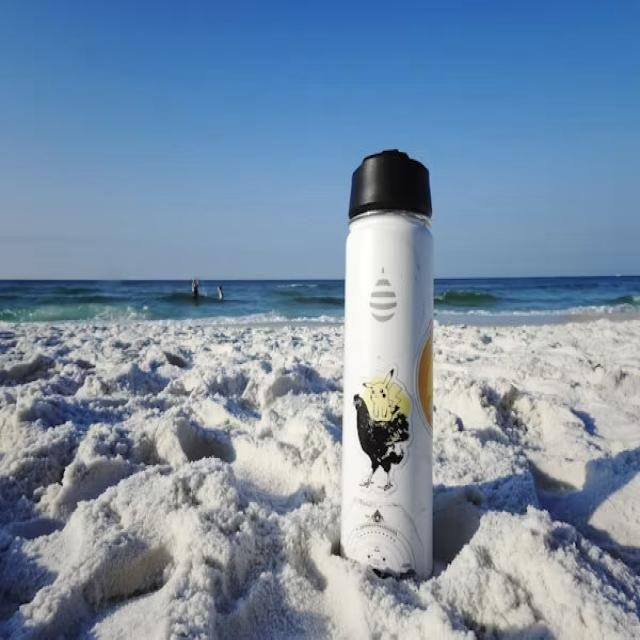Bottle: (341, 151, 434, 577)
